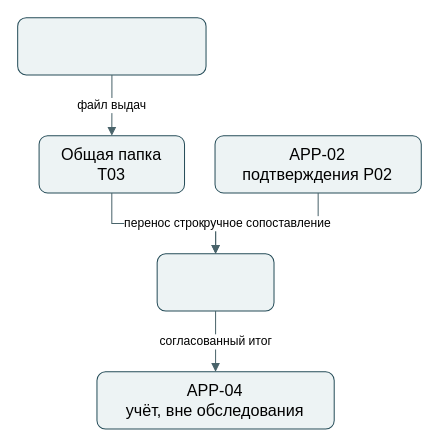
This 439x447 diagram has some shape labels left out. The box of each missing label's shape, as (x1, y1, x2, y2) in pixels:
APP-01 файл склада / Р01: (17, 17, 206, 75)
APP-03 свод / Р03: (156, 253, 274, 311)
